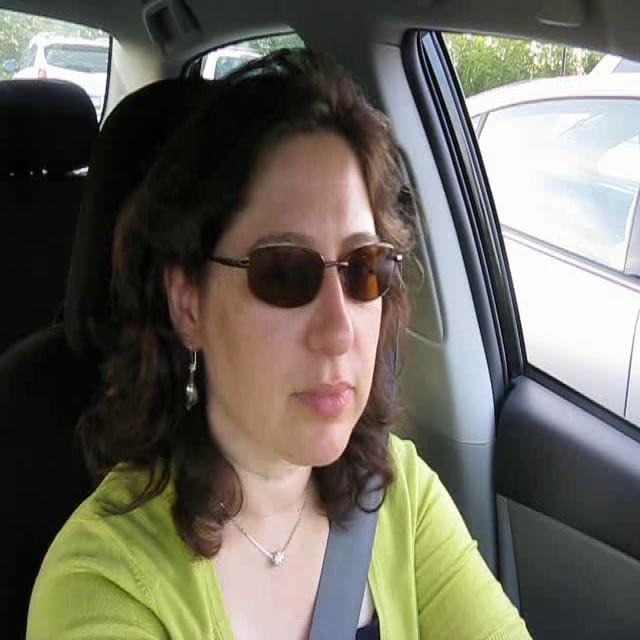close: (293, 377, 357, 423)
